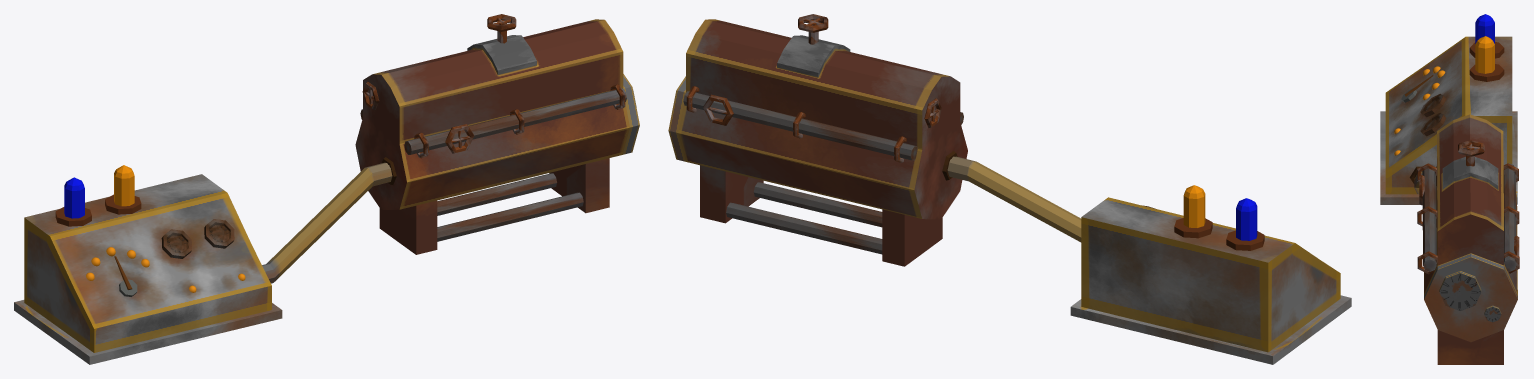
The model's file is Maschine 3+2.fbx.
The picture shows the model from 3 angles, left to right: view 1: azimuth 30°, elevation 25°; view 2: azimuth 150°, elevation 25°; view 3: azimuth 270°, elevation 25°; orthographic projection. The views are drawn at different scales.
Visible parts, largest first — view 1: Cylinder, Cube, Cylinder.028, Cylinder.009, Cylinder.007, Cylinder.005, Cylinder.027, Cylinder.026, Cylinder.001, Cylinder.023, Cylinder.022; view 2: Cylinder, Cube, Cylinder.008, Cylinder.028, Cylinder.005, Cylinder.007, Cylinder.027, Cylinder.026, Cylinder.001; view 3: Cylinder, Cube, Cylinder.001, Cylinder.009, Cylinder.003, Cylinder.008, Cylinder.027, Cylinder.026, Cylinder.025, Cylinder.022, Cylinder.023, Torus.007 (+7 smaller).
Part boxes in pixels (bbox=[...]): Cylinder: bbox=[355, 19, 629, 254]; Cube: bbox=[14, 174, 282, 364]; Cylinder.028: bbox=[262, 162, 392, 283]; Cylinder.009: bbox=[404, 88, 626, 154]; Cylinder.007: bbox=[437, 192, 583, 241]; Cylinder.005: bbox=[437, 173, 556, 215]; Cylinder.027: bbox=[114, 165, 134, 206]; Cylinder.026: bbox=[64, 177, 84, 218]; Cylinder.001: bbox=[622, 74, 639, 154]; Cylinder.023: bbox=[204, 219, 234, 248]; Cylinder.022: bbox=[161, 229, 191, 258]; Cylinder: bbox=[678, 19, 967, 266]; Cube: bbox=[1070, 197, 1351, 364]; Cylinder.008: bbox=[683, 91, 917, 160]; Cylinder.028: bbox=[947, 156, 1081, 242]; Cylinder.005: bbox=[726, 202, 882, 254]; Cylinder.007: bbox=[753, 182, 882, 227]; Cylinder.027: bbox=[1183, 185, 1205, 227]; Cylinder.026: bbox=[1236, 198, 1257, 240]; Cylinder.001: bbox=[668, 76, 685, 161]; Cylinder: bbox=[1424, 114, 1517, 364]; Cube: bbox=[1380, 36, 1517, 204]; Cylinder.001: bbox=[1424, 253, 1517, 342]; Cylinder.009: bbox=[1422, 163, 1436, 271]; Cylinder.003: bbox=[1439, 271, 1481, 310]; Cylinder.008: bbox=[1503, 163, 1516, 271]; Cylinder.027: bbox=[1475, 36, 1494, 73]; Cylinder.026: bbox=[1475, 14, 1494, 43]; Cylinder.025: bbox=[1469, 64, 1504, 81]; Cylinder.022: bbox=[1420, 94, 1446, 117]; Cylinder.023: bbox=[1420, 113, 1446, 136]; Torus.007: bbox=[1458, 140, 1484, 156].
Bounding box in the file's own units: 2610 × 843 × 595.
